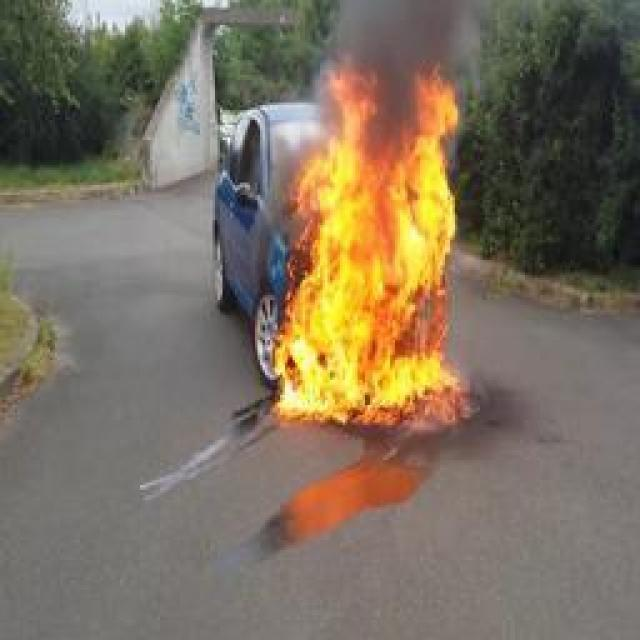Fire: (270, 62, 465, 416)
